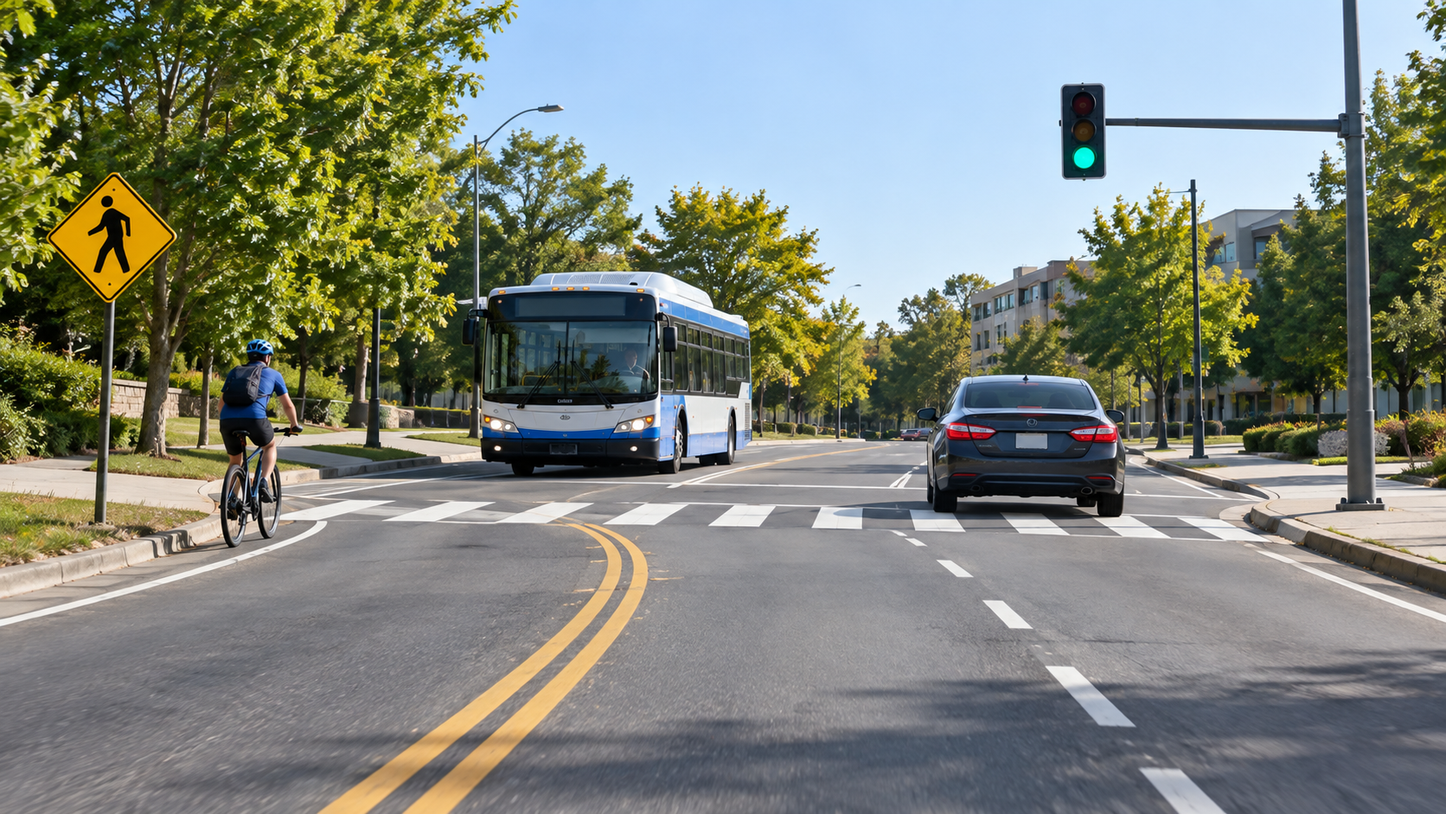bicycle: (215, 413, 307, 559)
bus: (460, 270, 757, 481)
car: (914, 374, 1128, 518)
crossing_warning_sign: (48, 171, 176, 303)
person: (218, 336, 304, 550)
traffic_light: (1059, 83, 1107, 180)
zebra_crossing: (406, 484, 1040, 537)
